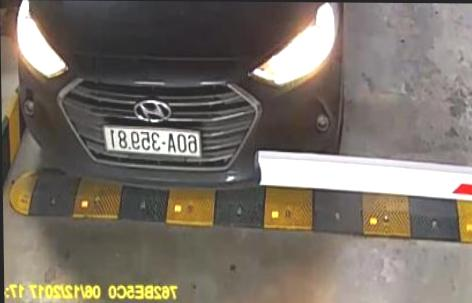License_Plate: (94, 122, 202, 159)
